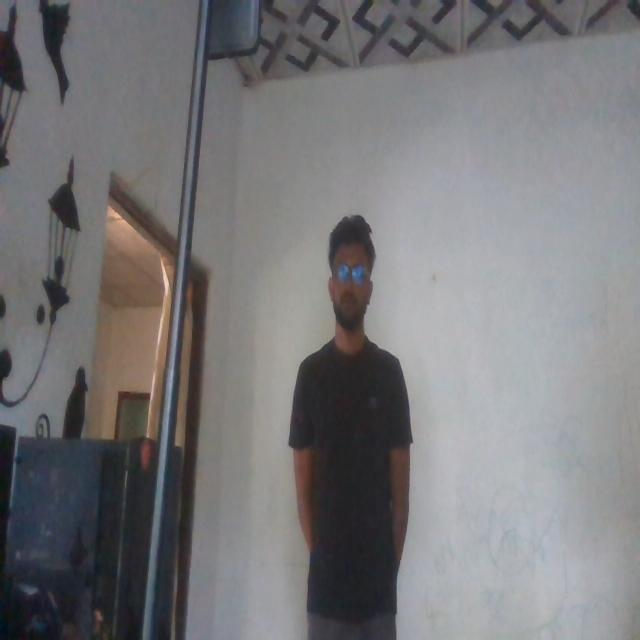Person: (296, 214, 448, 640)
